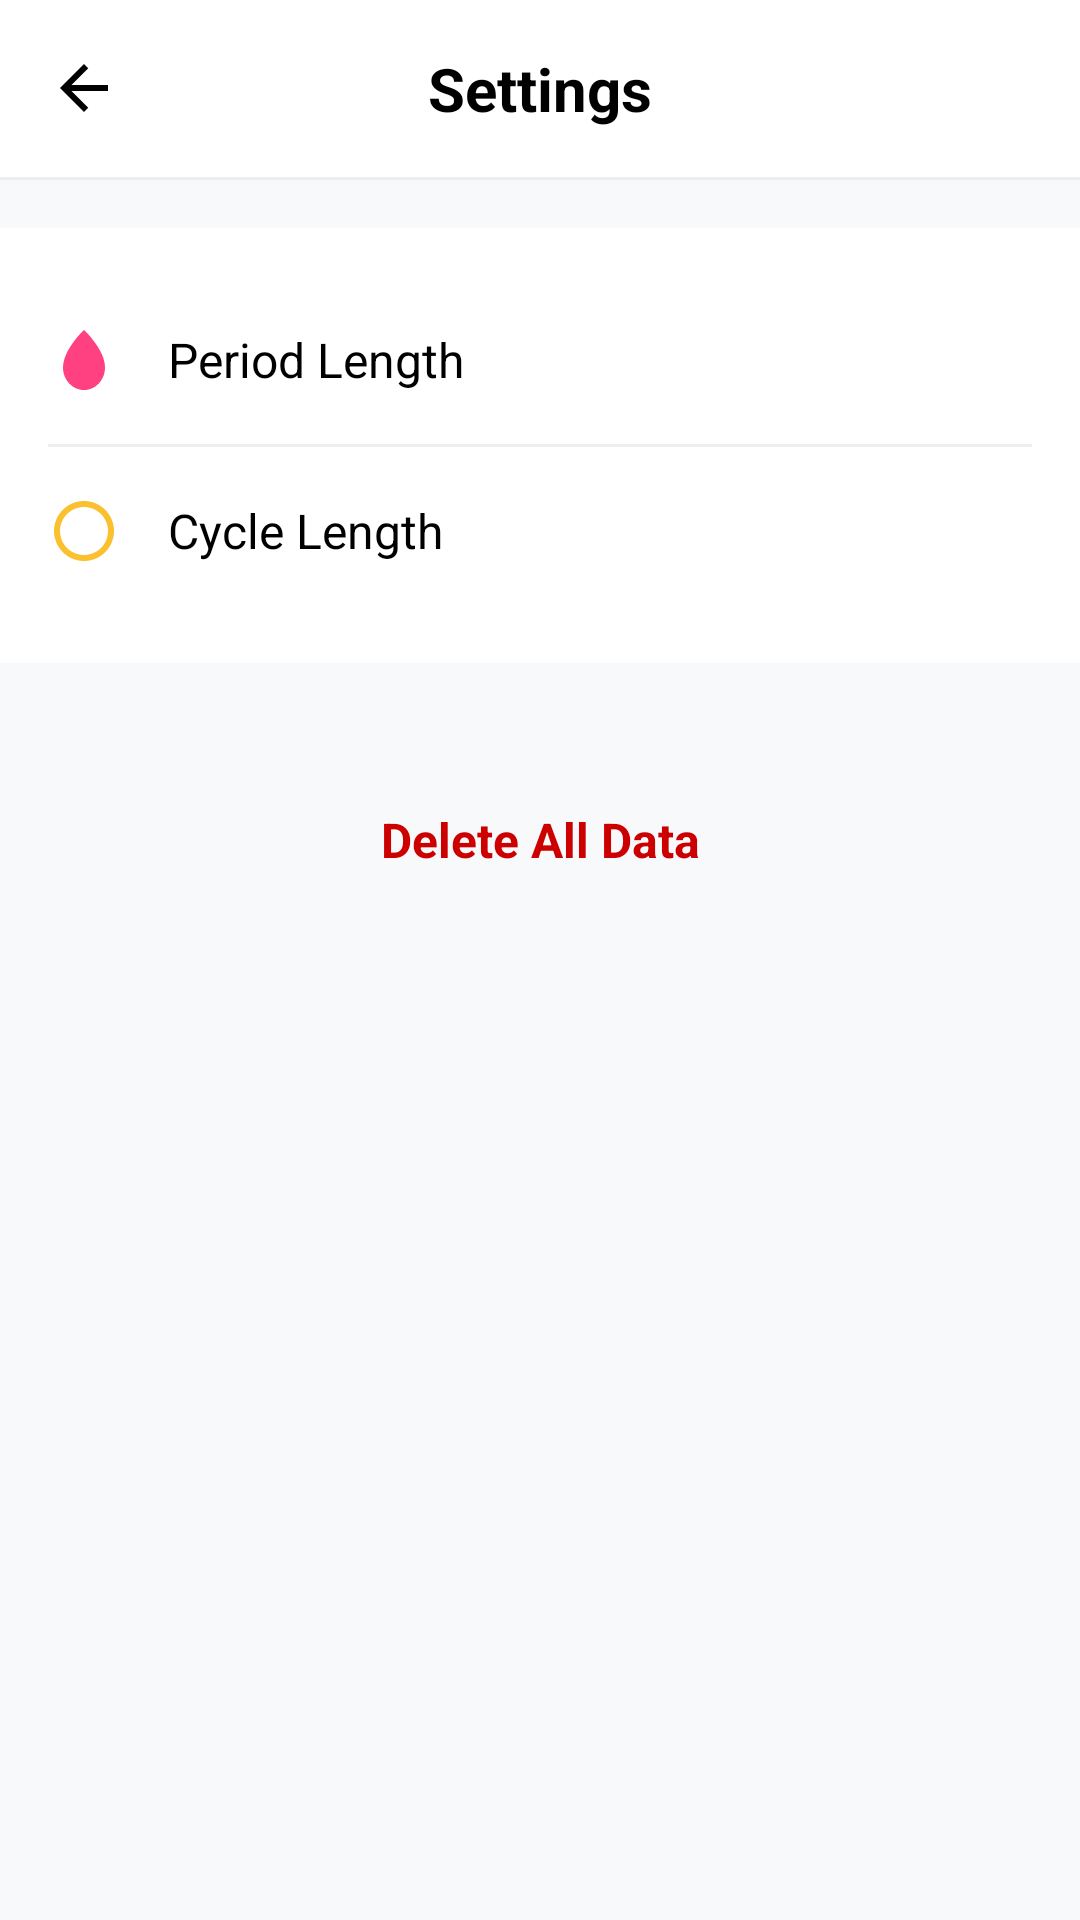

Where to tap for icons on this 1080×1920 app screen, as (x=x, y=y):
arrow back: (x=84, y=88)
drop: (x=84, y=360)
